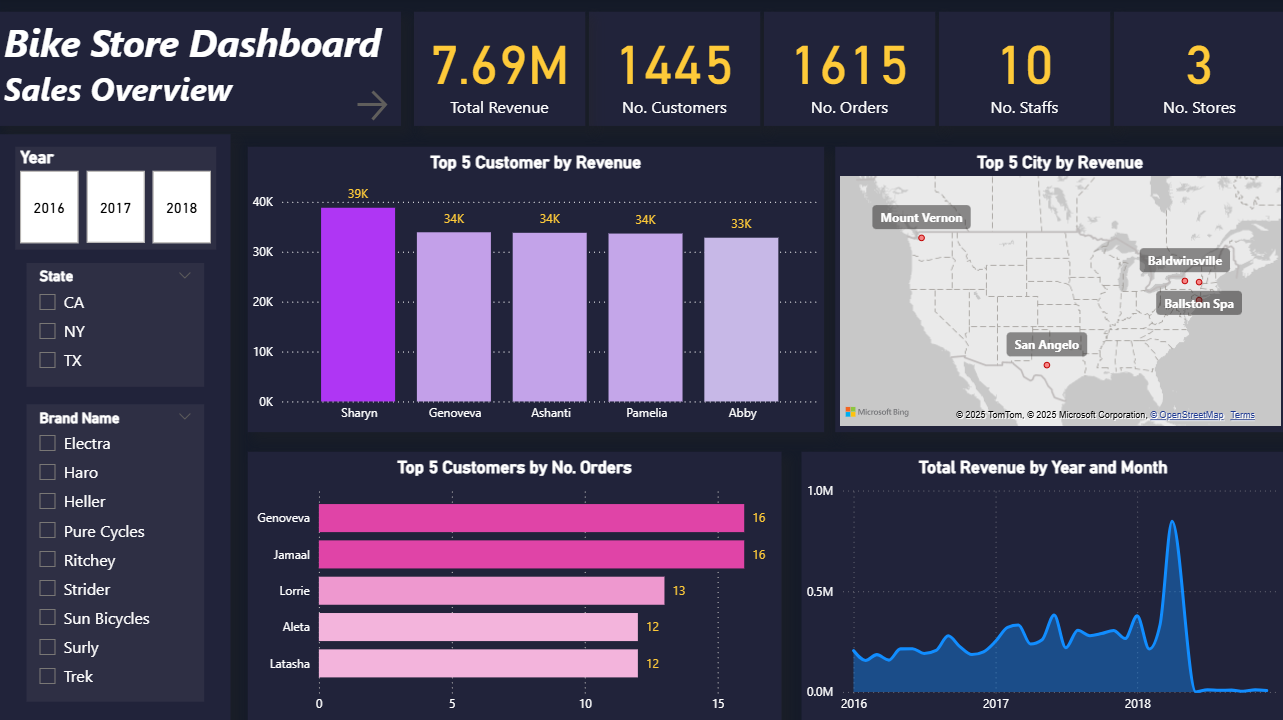

What the dashboard file says about the page in this screenshot:
{"tool":"powerbi","page":{"name":"Sales","canvas":[1280,720],"ordinal":0},"visuals":[{"type":"shape","box":[0,0,1280,720.3],"z":0},{"type":"card","fields":{"Values":["Count(sales customers.customer_id)"]},"box":[587,13.7,170.4,113.2],"z":1000},{"type":"card","fields":{"Values":["CountNonNull(sales orders.order_id)"]},"box":[761,13.7,170.4,113.2],"z":2000},{"type":"card","fields":{"Values":["sales order_items.TotalRevenue"]},"box":[413,13.7,170.4,113.2],"z":3000},{"type":"card","fields":{"Values":["Count(sales staffs.staff_id)"]},"box":[935,13.7,170.4,113.2],"z":4000},{"type":"card","fields":{"Values":["Count(sales stores.store_id)"]},"box":[1109.6,13.7,170.4,113.2],"z":5000},{"type":"columnChart","title":"Top 5 Customer by Revenue","fields":{"Category":["sales customers.first_name"],"Y":["sales order_items.TotalRevenue"]},"box":[247.5,148,573.5,283.6],"z":6000},{"type":"clusteredBarChart","title":"Top 5 Customers by No. Orders","fields":{"Y":["CountNonNull(sales order_items.order_id)"],"Category":["sales customers.first_name"]},"box":[247.5,451.6,531.2,268.7],"z":7000},{"type":"map","title":"Top 5 City by Revenue","fields":{"Category":["sales customers.city"]},"box":[832.2,148,447.8,283.6],"z":8000},{"type":"textbox","box":[0,13.7,400,113.2],"z":9000},{"type":"areaChart","title":"Total Revenue by Year and Month","fields":{"Category":["sales orders.required_date.Variation.Date Hierarchy.Year","sales orders.required_date.Variation.Date Hierarchy.Month"],"Y":["sales order_items.TotalRevenue"]},"box":[798.6,451.6,481.4,268.7],"z":10000},{"type":"textbox","box":[0,135.6,230.1,584.7],"z":11000},{"type":"slicer","fields":{"Values":["production brands.brand_name"]},"box":[27.4,404.3,176.6,296.1],"z":12000},{"type":"advancedSlicerVisual","fields":{"Values":["sales orders.required_date.Variation.Date Hierarchy.Year"]},"box":[16.2,148,200.3,102],"z":13000},{"type":"slicer","fields":{"Values":["sales customers.state"]},"box":[27.4,263.7,176.6,123.2],"z":14000},{"type":"actionButton","box":[350.8,87.1,49.8,39.8],"z":14001}]}

Visuals, with their boxes in screenshot pixels (x1, y1, x2, y2), scaled from the page's 1280x720 canvas onto the 1283x720 screenshot:
shape: (0, 0, 1282, 719)
card - Count(sales customers.customer_id): (588, 14, 759, 127)
card - CountNonNull(sales orders.order_id): (763, 14, 934, 127)
card - sales order_items.TotalRevenue: (414, 14, 585, 127)
card - Count(sales staffs.staff_id): (937, 14, 1108, 127)
card - Count(sales stores.store_id): (1112, 14, 1282, 127)
"Top 5 Customer by Revenue" columnChart: (248, 148, 823, 432)
"Top 5 Customers by No. Orders" clusteredBarChart: (248, 452, 781, 719)
"Top 5 City by Revenue" map: (834, 148, 1282, 432)
textbox: (0, 14, 401, 127)
"Total Revenue by Year and Month" areaChart: (800, 452, 1282, 719)
textbox: (0, 136, 231, 719)
slicer - production brands.brand_name: (27, 404, 204, 700)
advancedSlicerVisual - sales orders.required_date.Variation.Date Hierarchy.Year: (16, 148, 217, 250)
slicer - sales customers.state: (27, 264, 204, 387)
actionButton: (352, 87, 402, 127)
